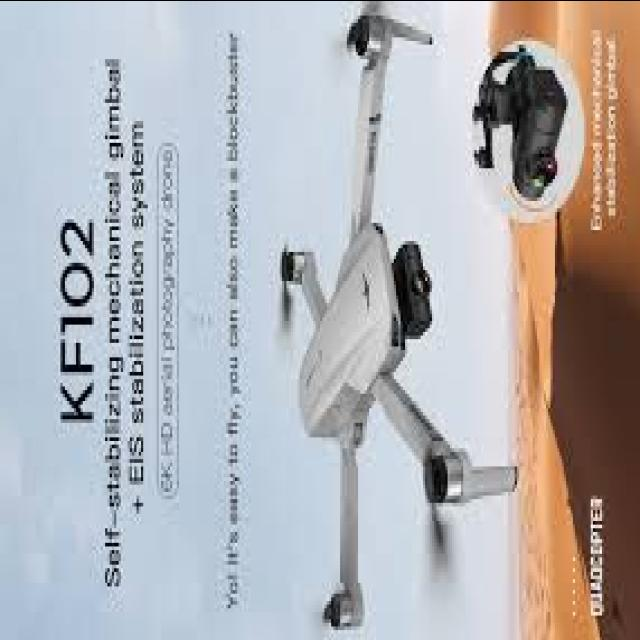drone: (268, 0, 518, 640)
